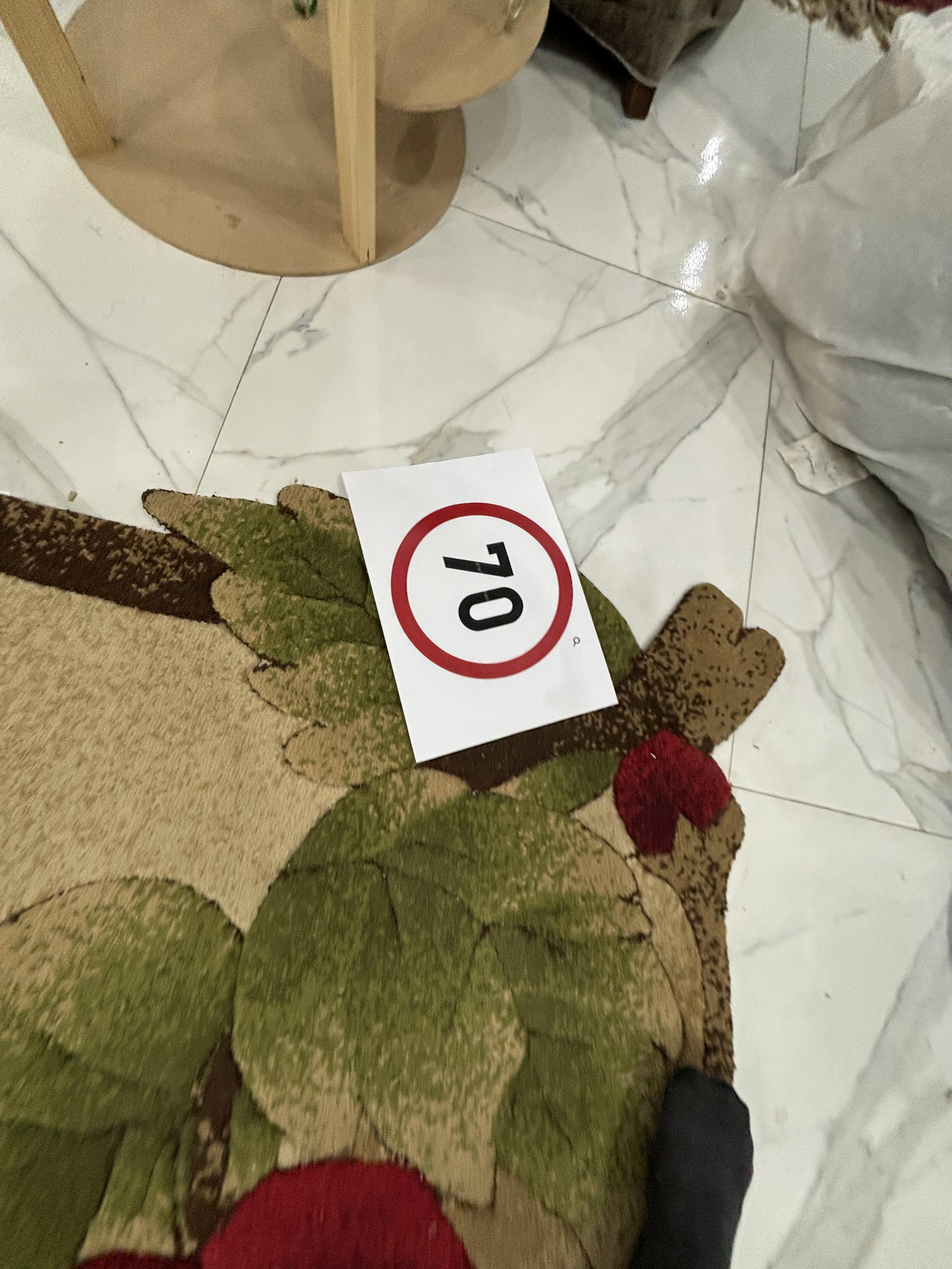70-Speed: (392, 494, 578, 684)
